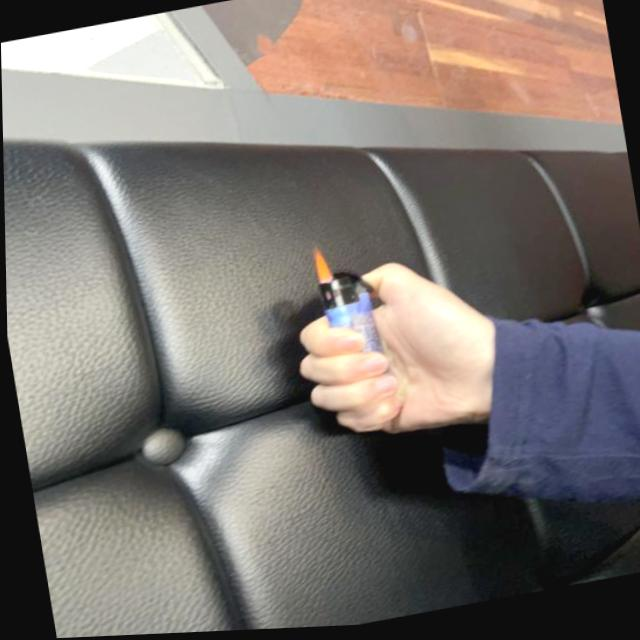helmet: (309, 246, 334, 288)
